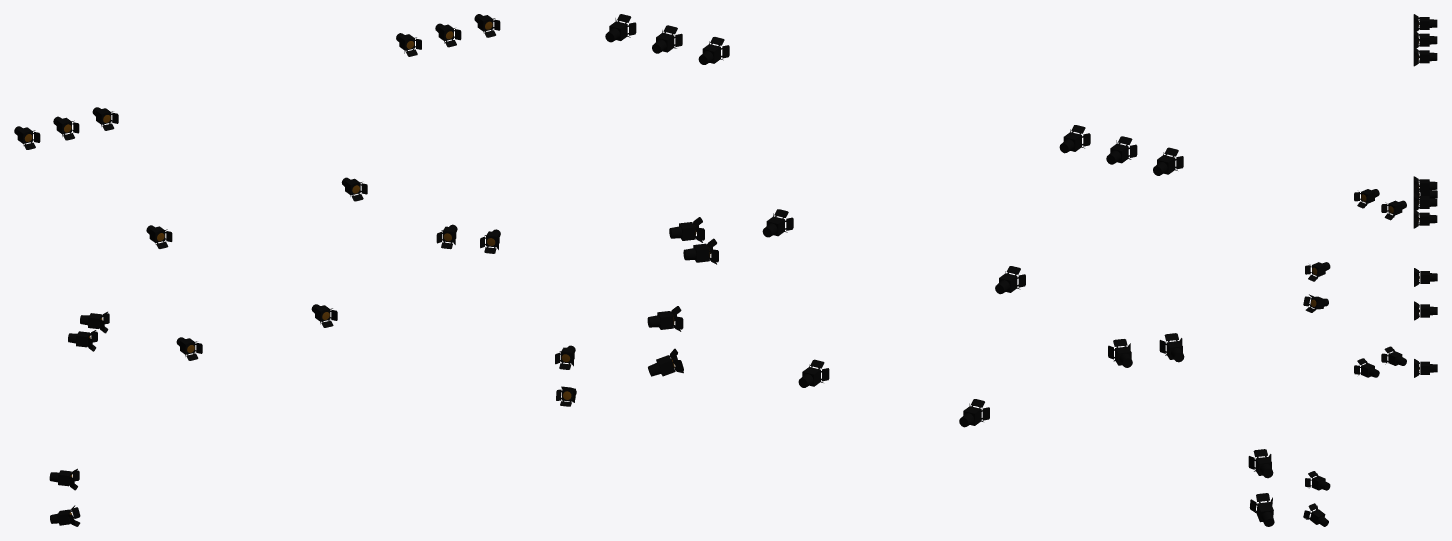
Rendered from spotlight.fbx.
The picture shows the model from 3 angles, left to right: view 1: azimuth 30°, elevation 25°; view 2: azimuth 150°, elevation 25°; view 3: azimuth 270°, elevation 25°; orthographic projection. The views are drawn at different scales.
Visible parts, largest first — view 1: spotLight; view 2: spotLight; view 3: spotLight.
Boxes of the visible parts, left/top/right/bottom form: spotLight: left=14, top=14, right=576, bottom=526; spotLight: left=605, top=14, right=1274, bottom=526; spotLight: left=1303, top=14, right=1437, bottom=526.
Bounding box in the file's own units: 960 × 606 × 244.
